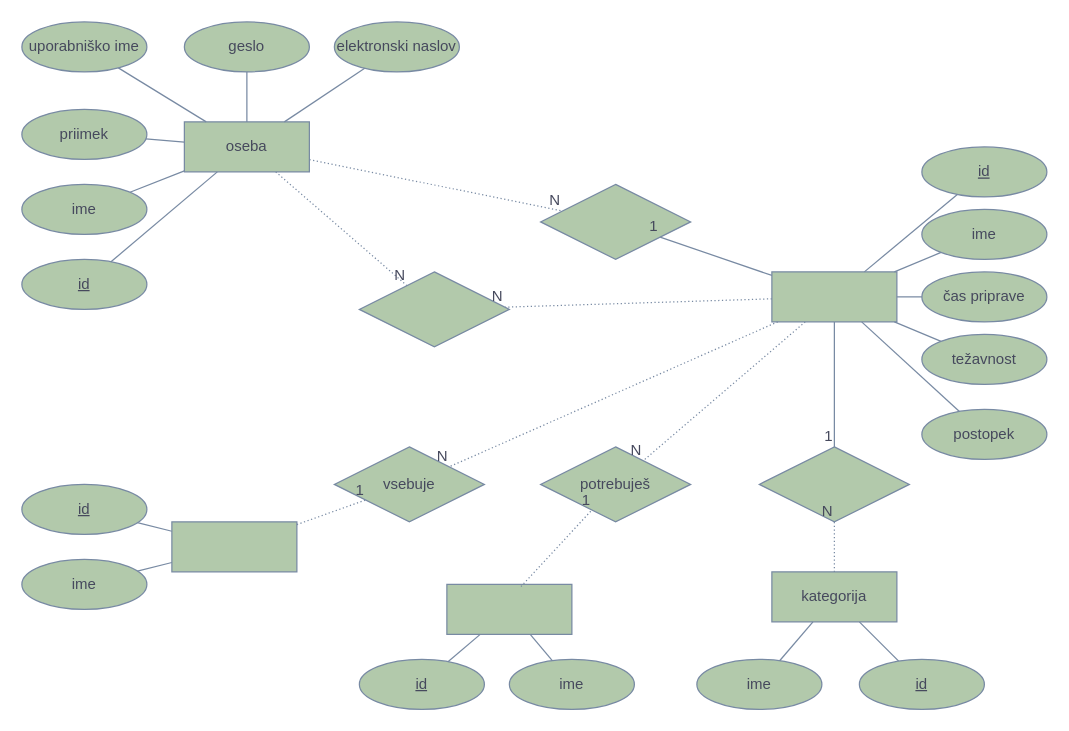
The diagram is 1069 pixels wide and 731 high, and some of its shapes have lost their labels. Here are the shapes that lost their labels. From the top down, the centre of each, then its label:
(x=615, y=221): je avtor
(x=433, y=309): priljubljeno
(x=834, y=296): sladica
(x=833, y=484): spada pod
(x=234, y=546): sestavina
(x=509, y=608): pripomoček
